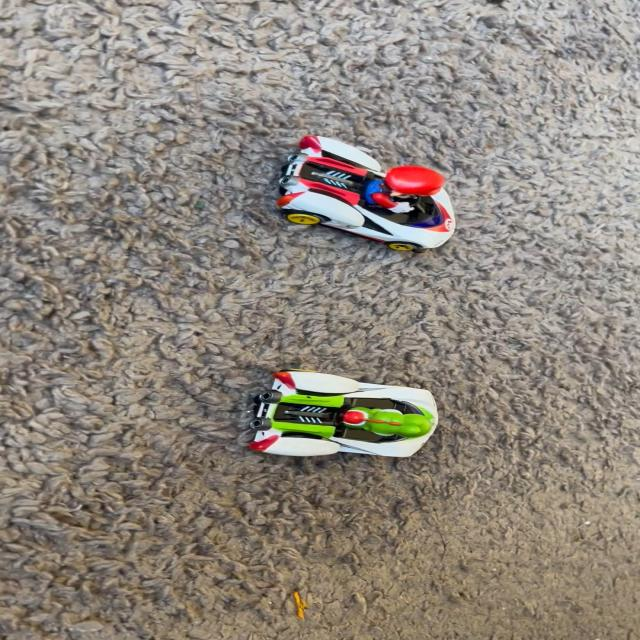mario: (257, 122, 476, 265)
yoshi: (233, 348, 457, 473)
